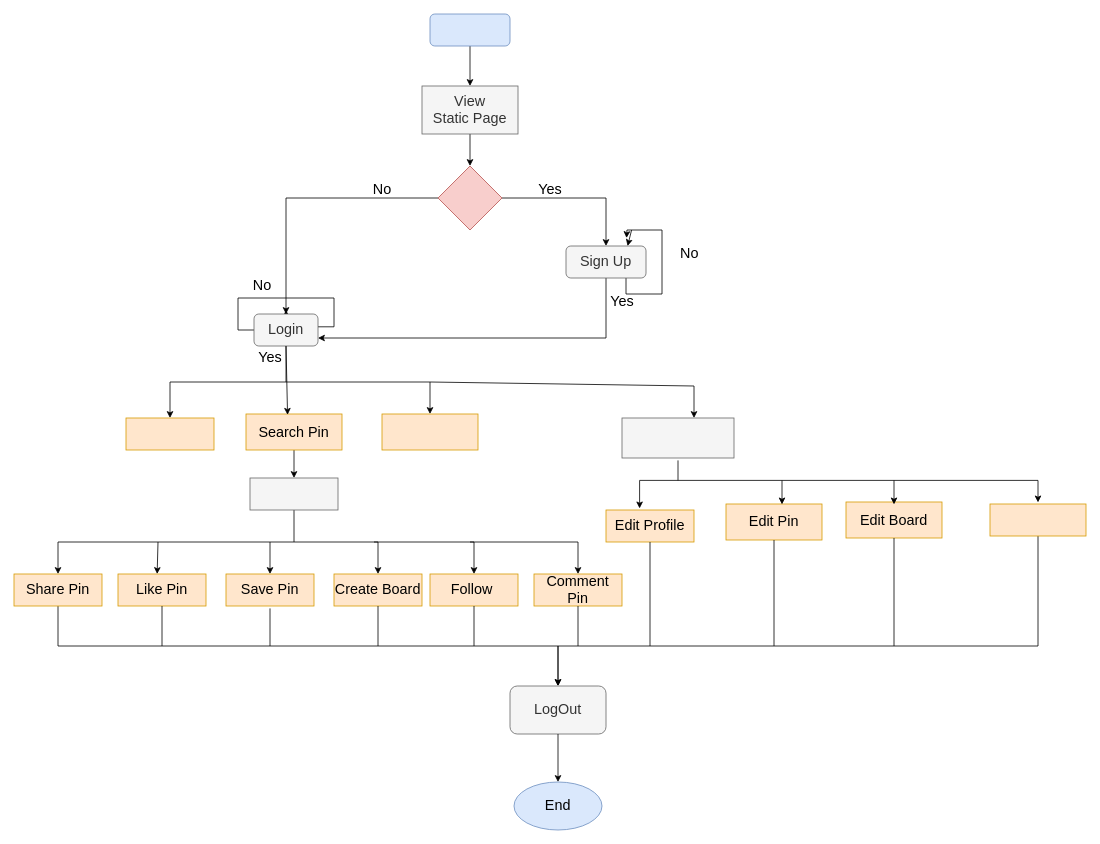
This 1100x844 diagram has some shape labels left out. The shapes that lost their labels are listed below. From the top down, each one's box as (x1, y1, x2, y2) in pixels, then its label:
(429, 13, 510, 46): Start
(437, 165, 502, 230): New User
(125, 417, 214, 450): Home
(381, 413, 478, 450): Create Pin
(621, 417, 734, 458): Visit Profile
(249, 477, 338, 510): View Pin
(989, 503, 1086, 536): Share Profile
